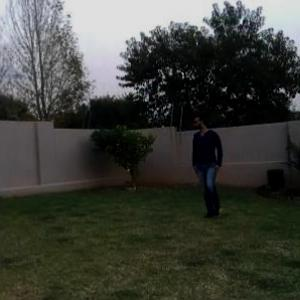follow: (184, 104, 228, 230)
